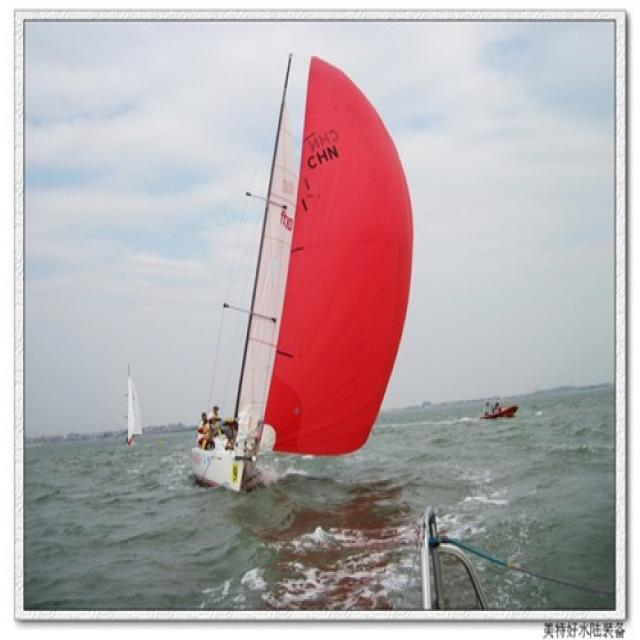Ship: (197, 48, 422, 501), (121, 370, 157, 447)
